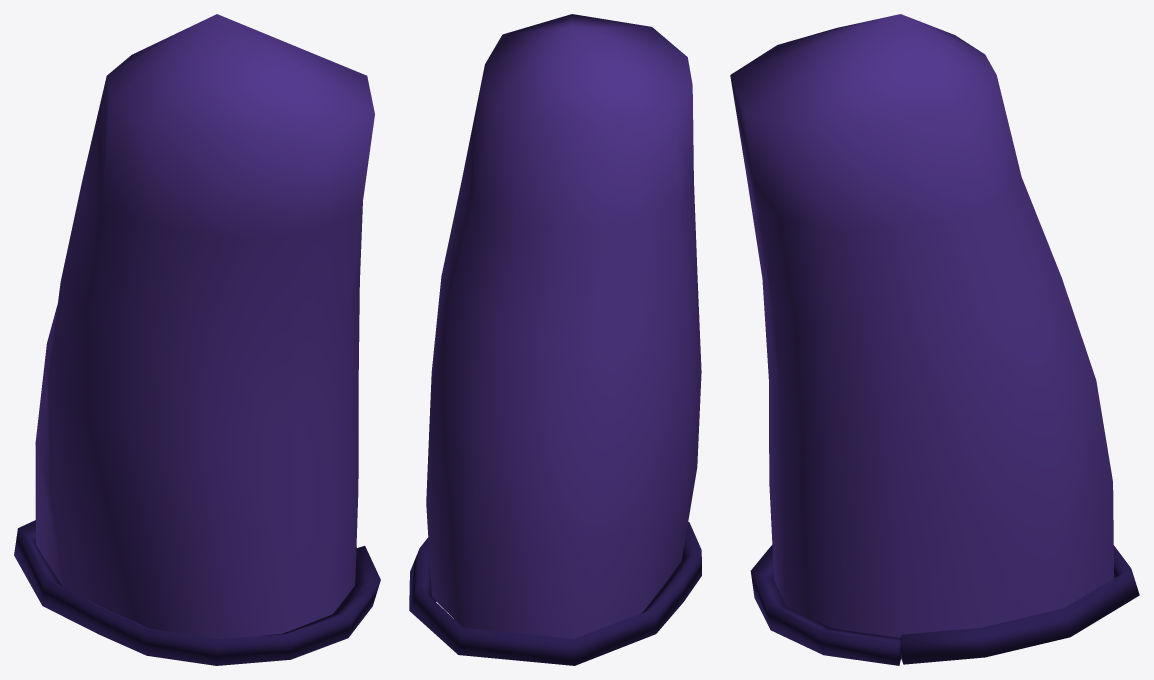
The model's file is beetle_armor_boot.L.glb.
3 views of the same model, side by side, from view 1: azimuth 30°, elevation 25°; view 2: azimuth 150°, elevation 25°; view 3: azimuth 270°, elevation 25° (orthographic). The views are drawn at different scales.
Parts seen in each view (by area): view 1: beetle_armor_boot.L; view 2: beetle_armor_boot.L; view 3: beetle_armor_boot.L.
Boxes of the visible parts, left/top/right/bottom form: beetle_armor_boot.L: left=14, top=14, right=380, bottom=665; beetle_armor_boot.L: left=409, top=14, right=701, bottom=665; beetle_armor_boot.L: left=730, top=14, right=1139, bottom=665.
Bounding box in the file's own units: 0.1461 × 0.2958 × 0.1877.
